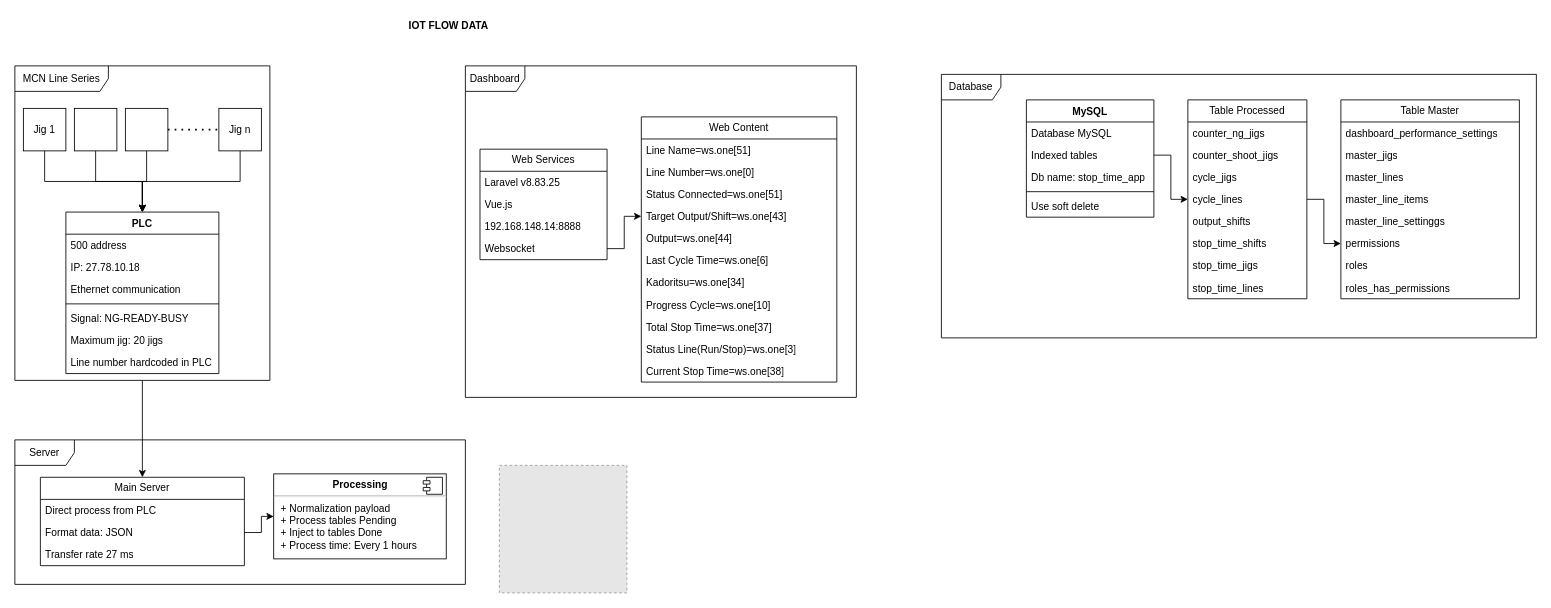
Image size: 1551x608. Some labels were removed from this diagram. Grey dashed boxes stand in for pictures. The shapes that lost their labels are listed below. From the top down, each one's centre as x and y in pixels, then its label:
At [95,129]: "Jig 2".
At [146,129]: "Jig 3".
